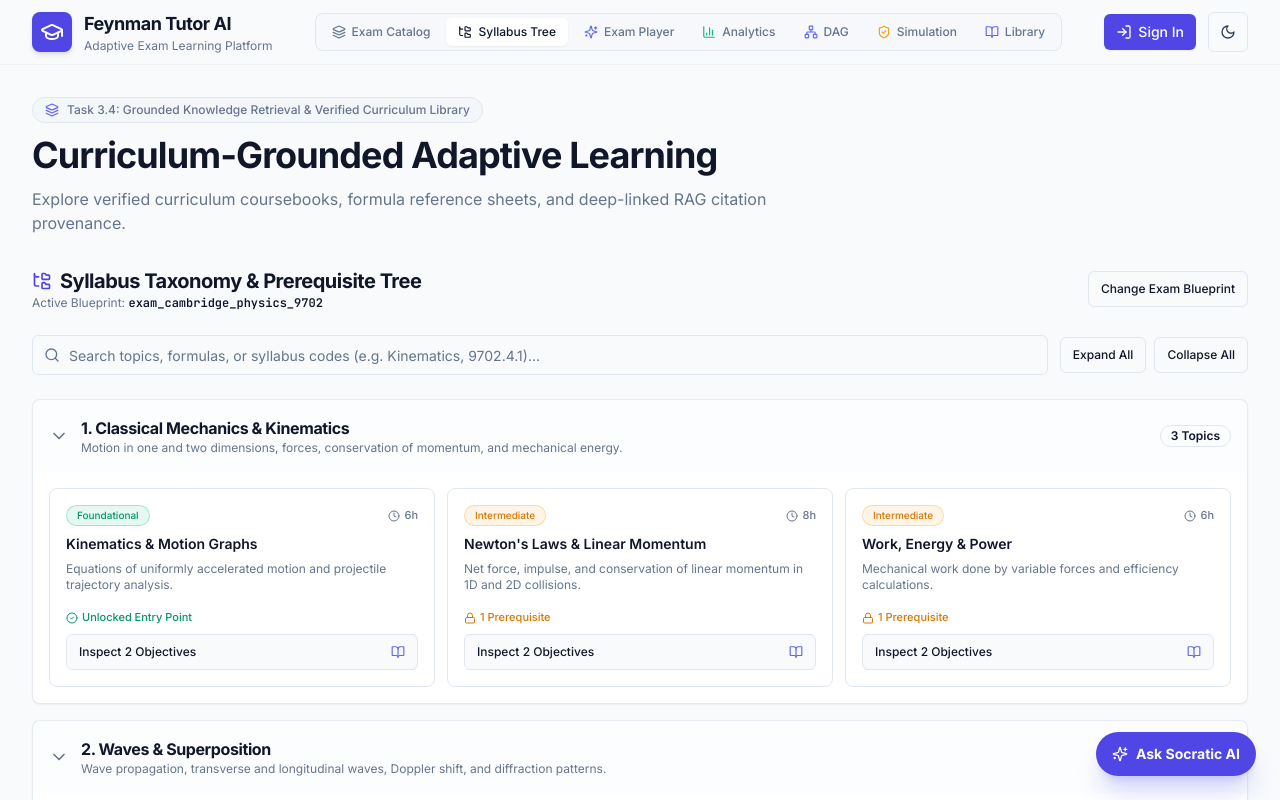
Test: Interactive Misconception DAG Suite › selects a node on canvas and launches an adversarial challenge probe
Click the button "DAG": (826, 32) [792,18,861,46]
(page scrolled)
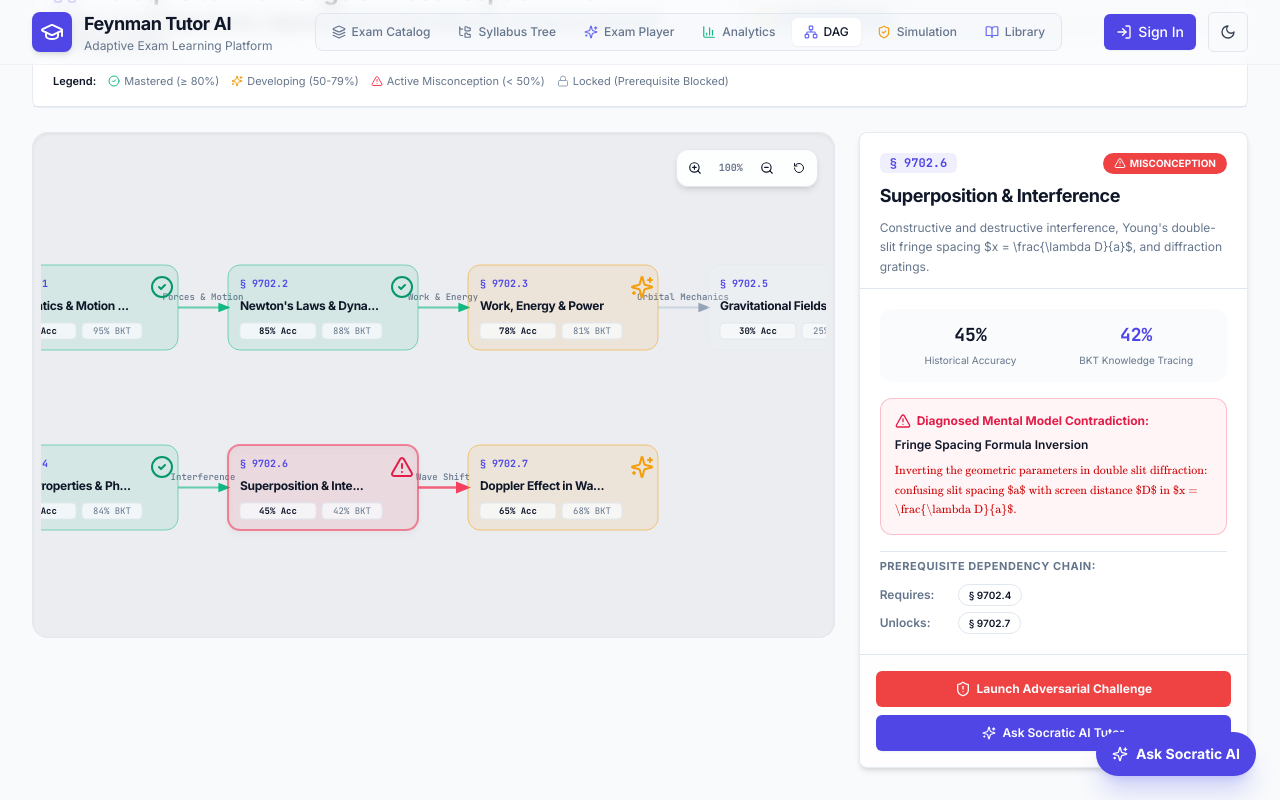
Note: Launch Adversarial Challenge on selected Superposition node
Click the button "Launch Adversarial Challenge": (1053, 688) [876,670,1231,706]
(page scrolled)
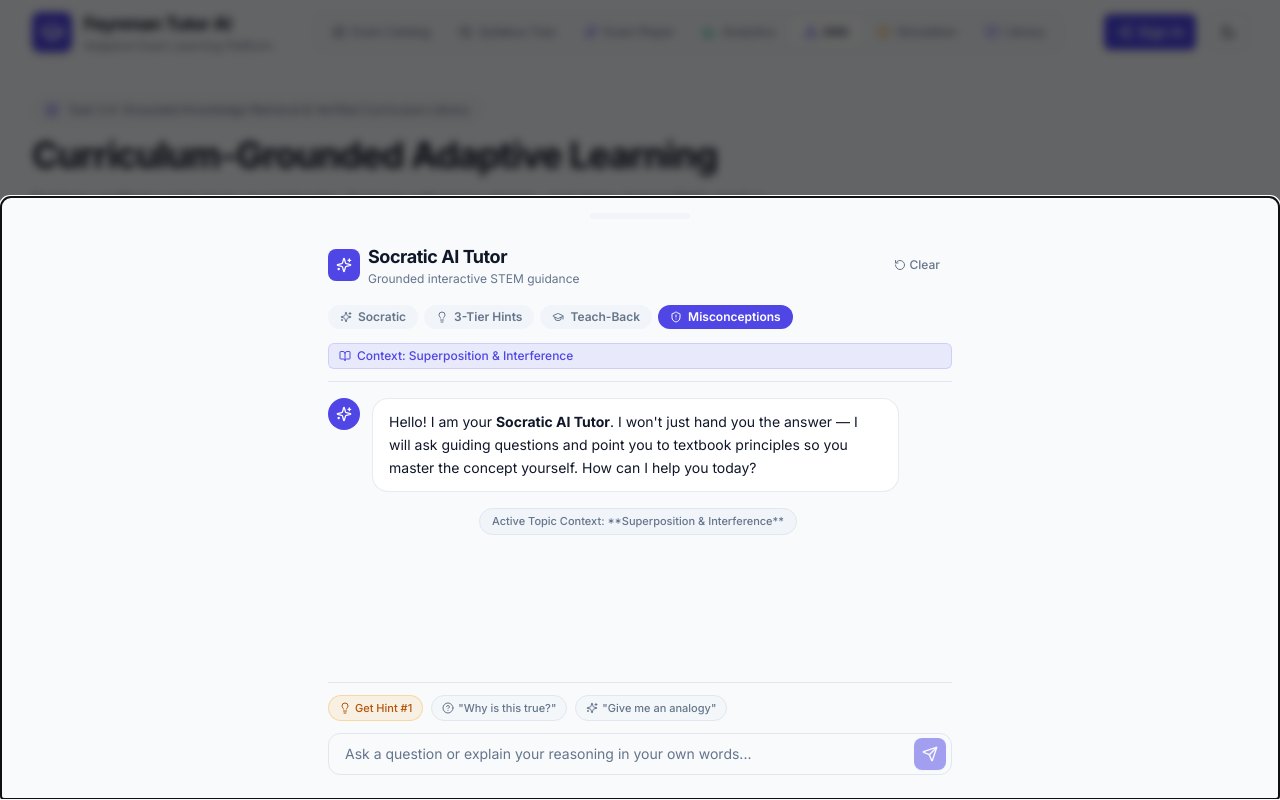
Check: the heading "Socratic AI Tutor" is shown, box [368,246,507,267]
